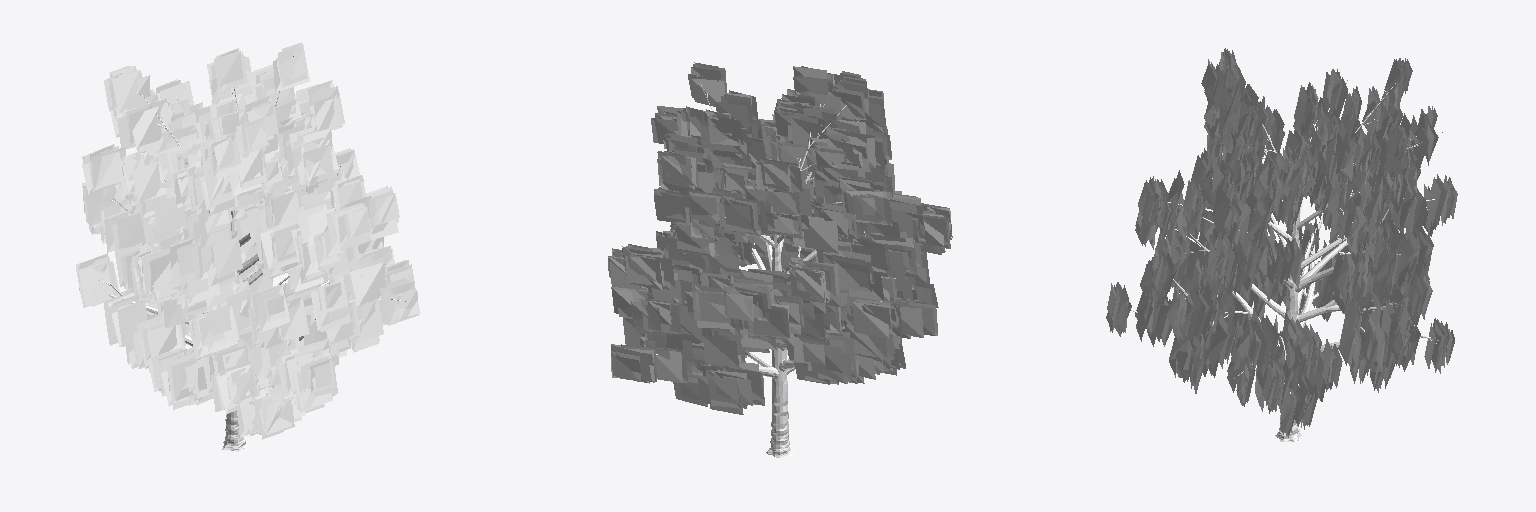
File: treeOBJ.obj
3 views of the same model, side by side, from view 1: azimuth 30°, elevation 25°; view 2: azimuth 150°, elevation 25°; view 3: azimuth 270°, elevation 25° (orthographic).
Visible parts, largest first — view 1: AlanTree; view 2: AlanTree; view 3: AlanTree.
Part boxes in pixels (x1,y1,x2,y2): AlanTree: (76,42,420,451); AlanTree: (608,62,952,457); AlanTree: (1106,48,1457,441).
Size of the model in its own units: 82.37 by 96.07 by 81.92.